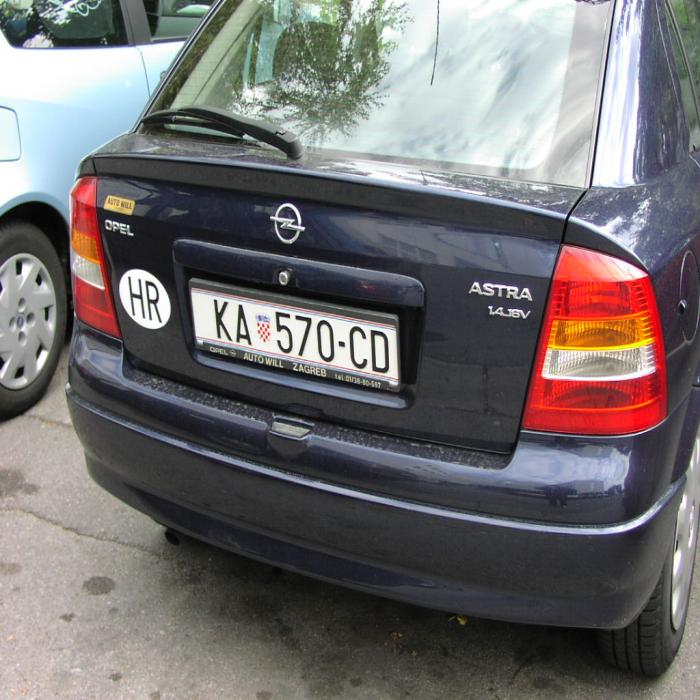number_plate: (191, 288, 397, 381)
